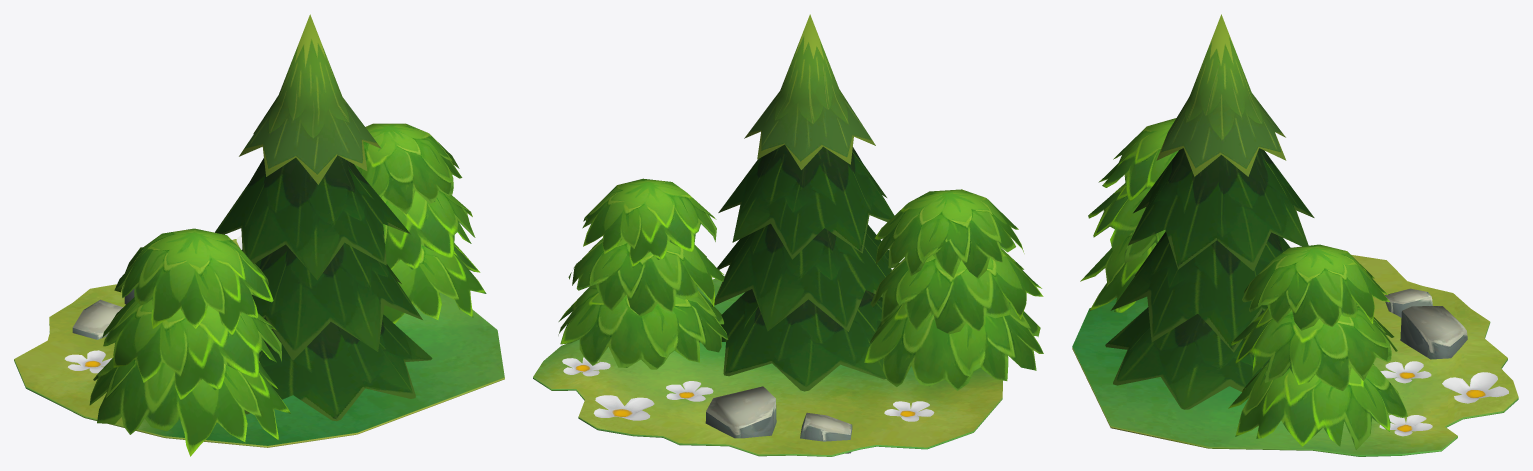
File: MonkeyMeadowOdysseyStatue.fbx
3 views of the same model, side by side, from view 1: azimuth 30°, elevation 25°; view 2: azimuth 150°, elevation 25°; view 3: azimuth 270°, elevation 25° (orthographic). The views are drawn at different scales.
Visible parts, largest first — view 1: TreesGroup, GrassGround; view 2: TreesGroup, GrassGround; view 3: TreesGroup, GrassGround.
Boxes of the visible parts, x1=… form: TreesGroup: x1=64, y1=14, x2=486, y2=456; GrassGround: x1=14, y1=239, x2=504, y2=447; TreesGroup: x1=558, y1=14, x2=1043, y2=453; GrassGround: x1=533, y1=276, x2=1002, y2=456; TreesGroup: x1=1080, y1=14, x2=1508, y2=449; GrassGround: x1=1072, y1=254, x2=1518, y2=456.
Bounding box in the file's own units: 22.89 × 18.29 × 20.51.
